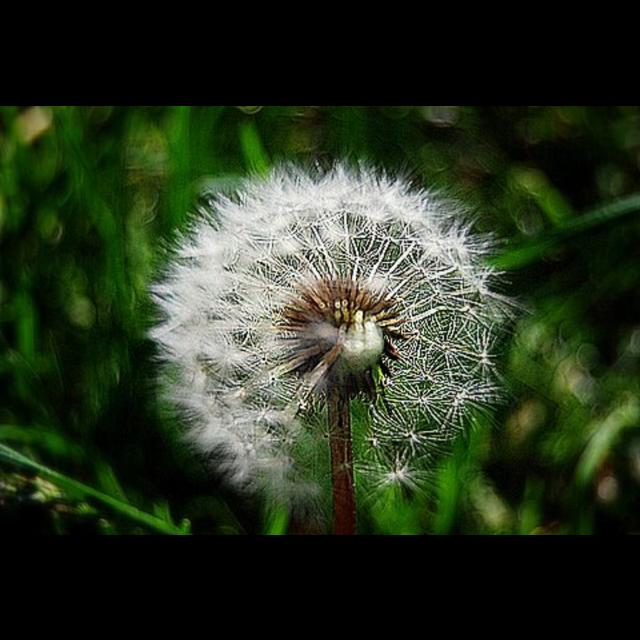Flower: (132, 156, 538, 474)
